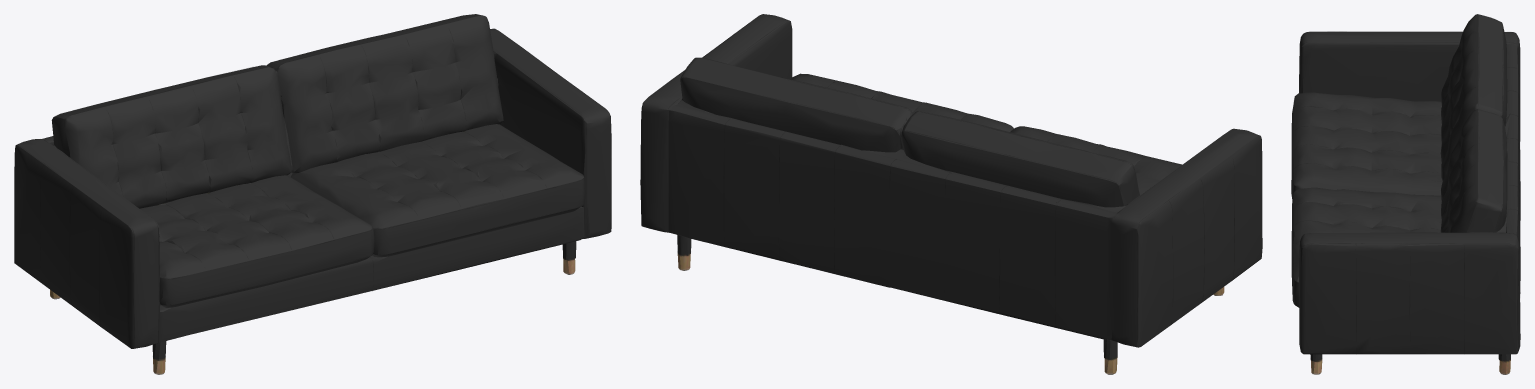
Rendered from sofa-11.glb.
3 views of the same model, side by side, from view 1: azimuth 30°, elevation 25°; view 2: azimuth 150°, elevation 25°; view 3: azimuth 270°, elevation 25° (orthographic). The views are drawn at different scales.
Parts seen in each view (by area): view 1: ProcessedMeshNode; view 2: ProcessedMeshNode; view 3: ProcessedMeshNode.
Boxes of the visible parts, x1,y1,x2,y2 form: ProcessedMeshNode: [14, 14, 611, 374]; ProcessedMeshNode: [640, 14, 1262, 374]; ProcessedMeshNode: [1291, 14, 1520, 374].
Size of the model in its own units: 2.07 by 0.7836 by 0.9234.
2 materials, 2 textured.
